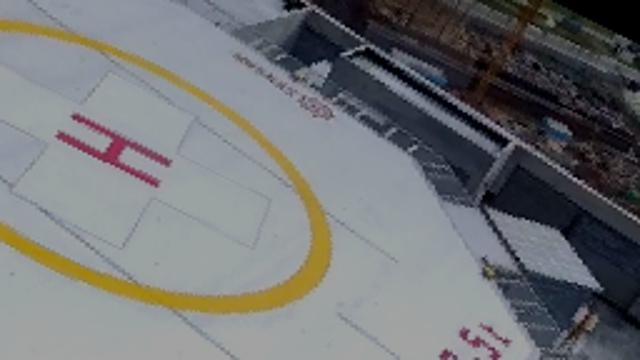Apron: (1, 10, 357, 320)
